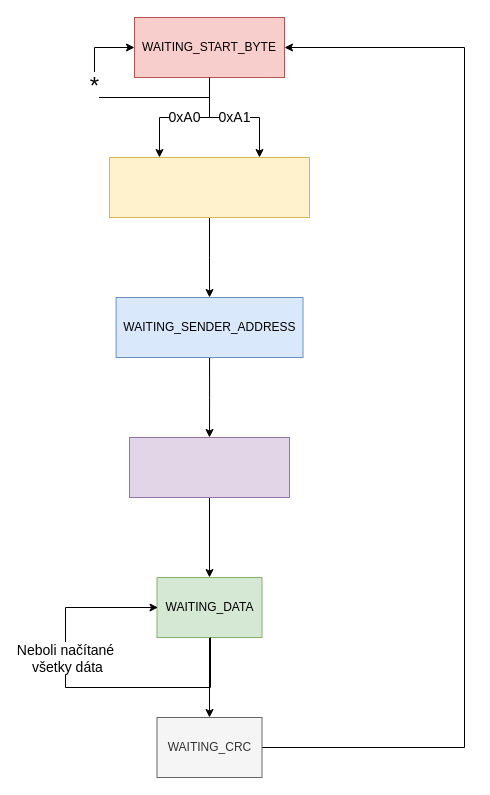
This 490x795 diagram has some shape labels left out. Each missing label, with the centre of its shape:
"WAITING_DATA_LENGHT" belongs at point 209,467.
"WAITING_RECEIVER_ADDRESS" belongs at point 209,187.
